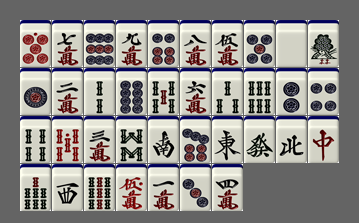0m: (116, 164, 147, 211)
0p: (20, 20, 51, 67)
0s: (52, 116, 83, 163)
1m: (148, 164, 179, 211)
1p: (20, 68, 51, 115)
1s: (308, 20, 339, 67)
1z: (212, 116, 243, 163)
2m: (52, 68, 83, 115)
2p: (276, 68, 307, 115)
2s: (84, 68, 115, 115)
2z: (148, 116, 179, 163)
3m: (84, 116, 115, 163)
3p: (180, 164, 211, 211)
3s: (212, 68, 243, 115)
3z: (52, 164, 83, 211)
4m: (212, 164, 243, 211)
4p: (308, 68, 339, 115)
4s: (20, 116, 51, 163)
4z: (276, 116, 307, 163)
5m: (212, 20, 243, 67)
5p: (244, 20, 275, 67)
5s: (148, 68, 179, 115)
5z: (276, 20, 307, 67)
6m: (180, 68, 211, 115)
6p: (148, 20, 179, 67)
6s: (244, 68, 275, 115)
6z: (244, 116, 275, 163)
7m: (52, 20, 83, 67)
7p: (180, 116, 211, 163)
7s: (20, 164, 51, 211)
7z: (308, 116, 339, 163)
8m: (180, 20, 211, 67)
8p: (116, 68, 147, 115)
8s: (116, 116, 147, 163)
9m: (116, 20, 147, 67)
9p: (84, 20, 115, 67)
9s: (84, 164, 115, 211)
